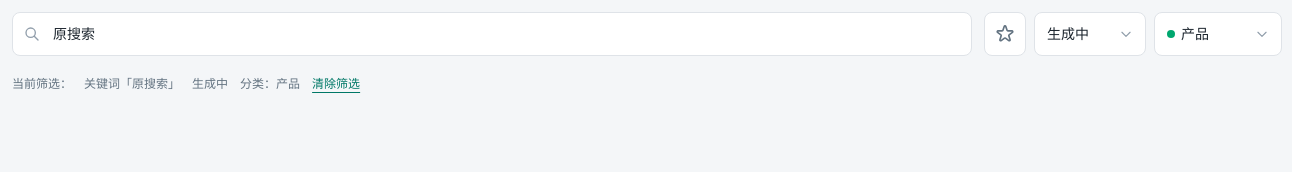
Scenario: SearchBar › 清除筛选会丢弃尚未提交的搜索草稿，原搜索为 原搜索
The width and height of the screenshot is (1292, 172).
Replace the text in the field named "搜索提示词和参数" with "尚未防抖写入的搜索词" at [492, 34], box [12, 12, 972, 56]
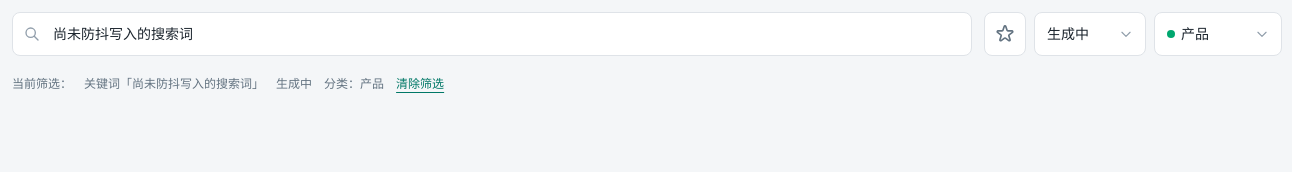
Click the button "清除筛选" at [420, 84], box [396, 68, 444, 100]
Wait 500 ms
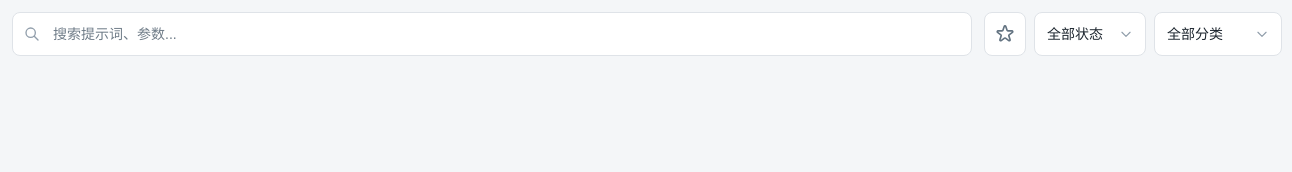
Expected: the field named "搜索提示词和参数" is empty, [12, 12, 972, 56]
Expected: the button "清除筛选" is gone
